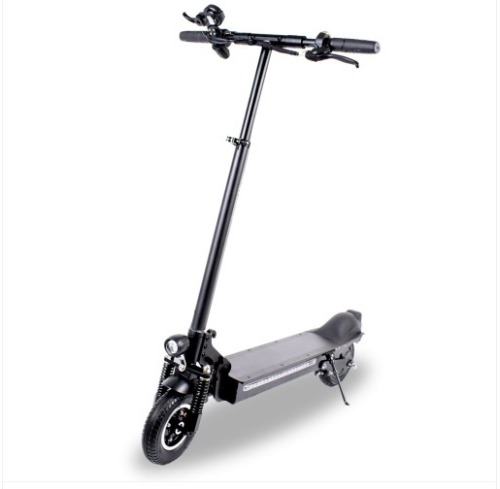kick_board: (139, 4, 385, 467)
kick_body: (218, 331, 330, 402)
kick_handler: (177, 1, 377, 68)
kick_neck: (199, 51, 273, 339)
kick_wheel: (142, 394, 201, 464), (320, 315, 363, 383)
